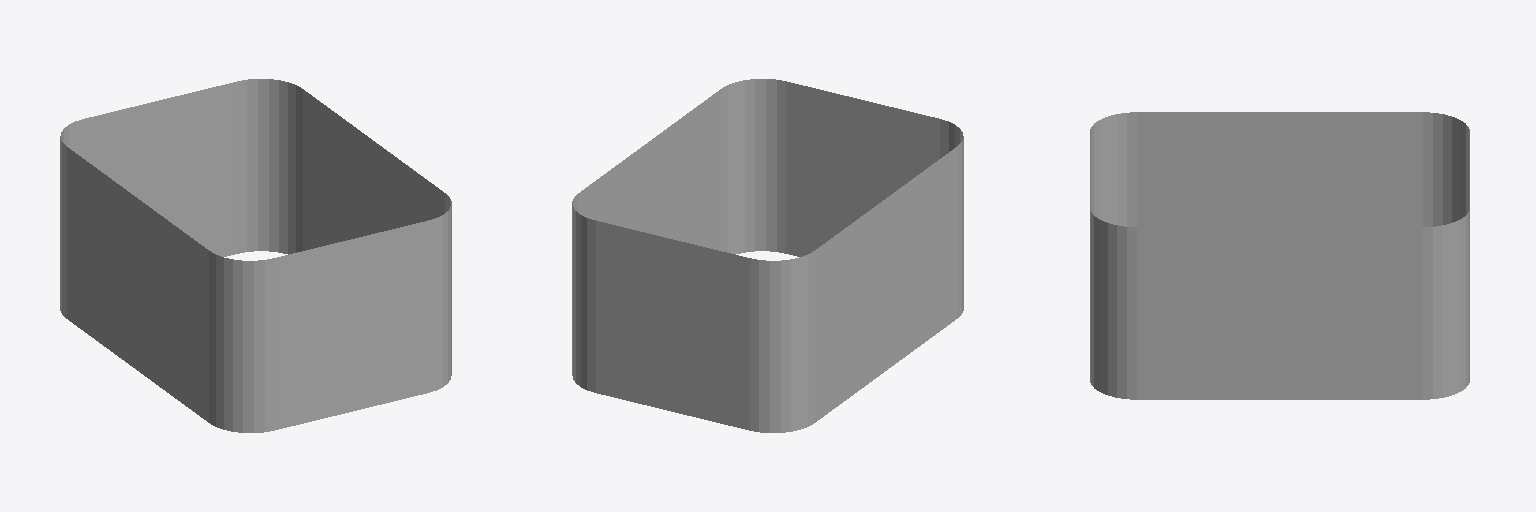
File: card_side.obj
3 renders of one model, left to right at view 1: azimuth 30°, elevation 25°; view 2: azimuth 150°, elevation 25°; view 3: azimuth 270°, elevation 25°, orthographic.
Visible parts, largest first — view 1: edge; view 2: edge; view 3: edge.
Boxes of the visible parts, <box> form: edge: <box>60,79,451,432</box>; edge: <box>572,79,963,432</box>; edge: <box>1090,112,1469,399</box>.
Size of the model in its own units: 1.43 by 1 by 2.